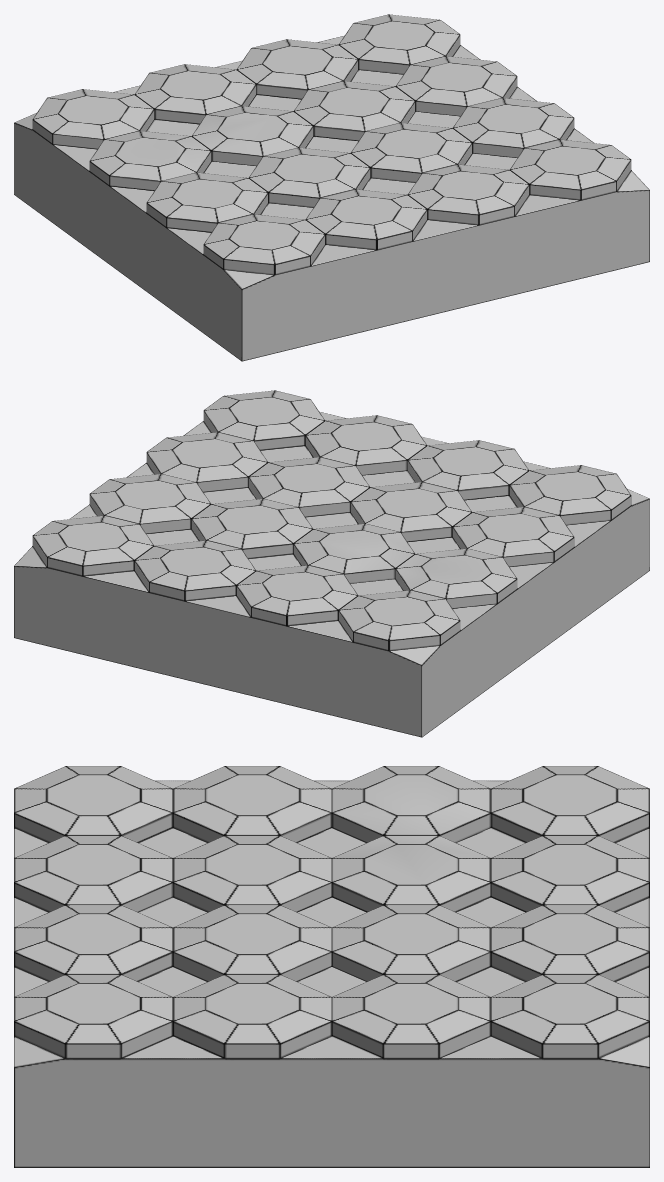
Rendered from floorTile.obj.
3 renders of one model, top to bottom at view 1: azimuth 30°, elevation 25°; view 2: azimuth 150°, elevation 25°; view 3: azimuth 270°, elevation 25°, orthographic. The views are drawn at different scales.
Parts seen in each view (by area): view 1: Cube; view 2: Cube; view 3: Cube.
Part boxes in pixels (x1=…): Cube: x1=14, y1=14, x2=649, y2=361; Cube: x1=14, y1=390, x2=649, y2=737; Cube: x1=14, y1=766, x2=649, y2=1167.
Bounding box in the file's own units: 10.9 × 2.37 × 10.55.
Materials: 1 (1 with a texture image).
